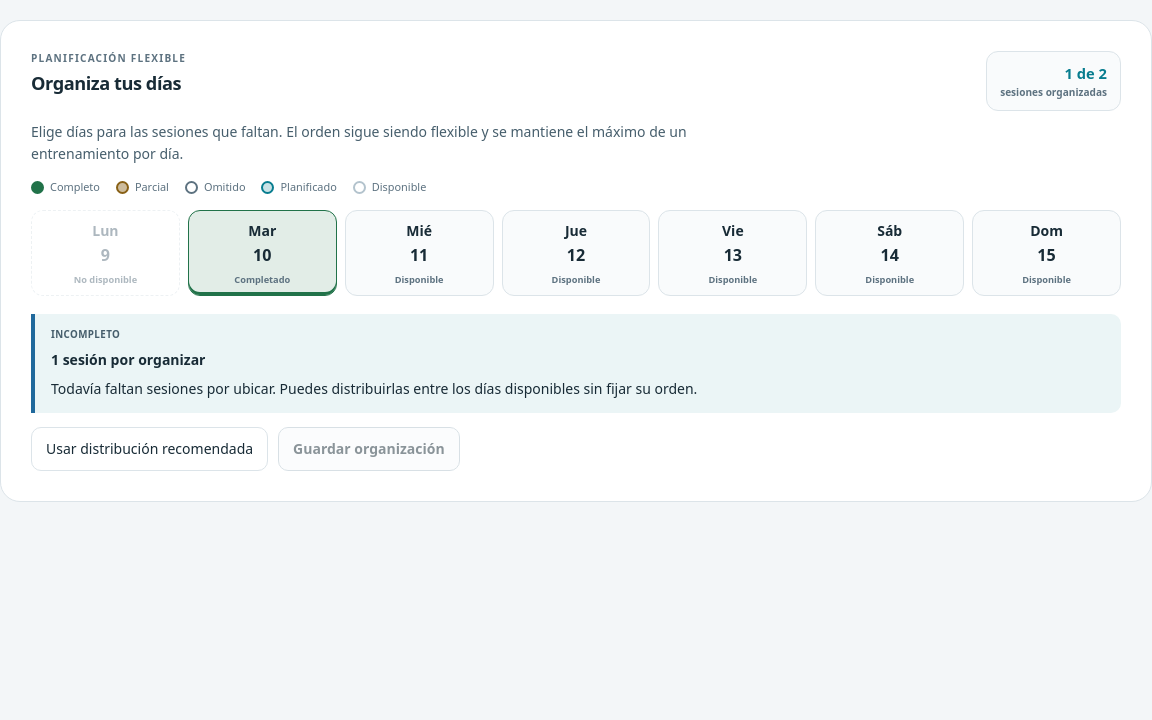
Test: WeeklyTrainingPlanner › updates a potential muscle conflict immediately without assigning a session
The width and height of the screenshot is (1152, 720).
Click the button "Mié 11 Disponible": (419, 253) [345,210,494,296]
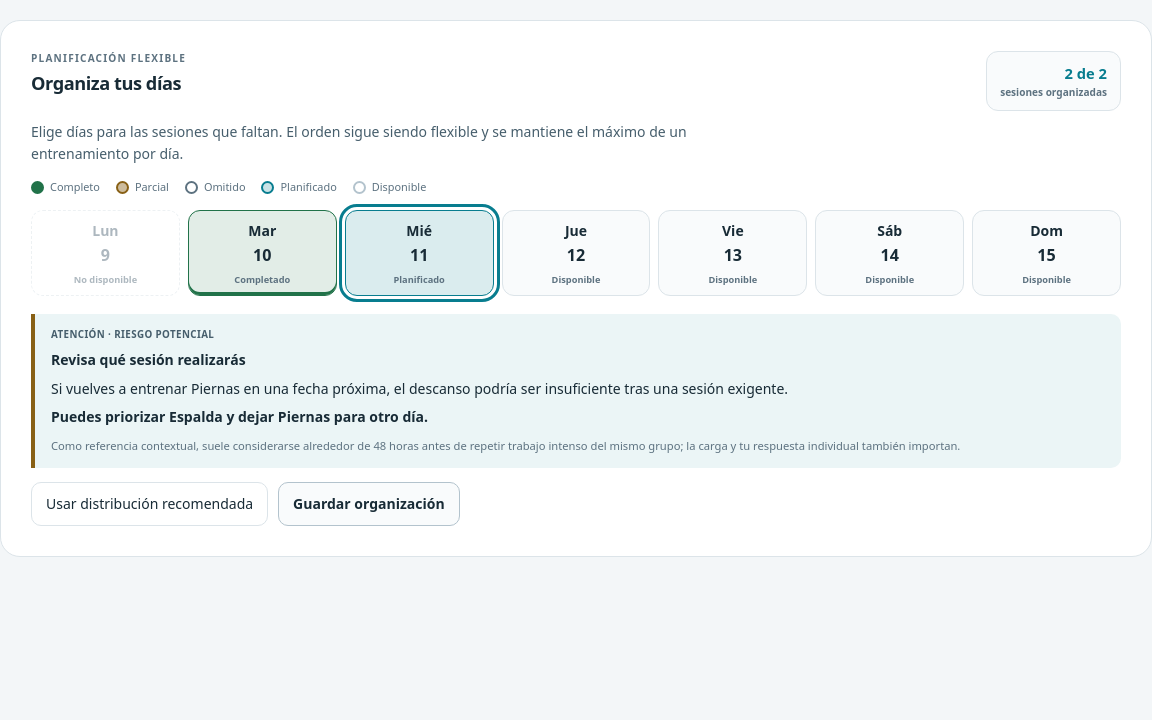
Now the message shows "Revisa qué sesión realizarás", box [51,350,246,369]
Now the message shows "Puedes priorizar Espalda", box [51,407,428,426]
Now the message shows "riesgo potencial", box [105,328,214,341]
